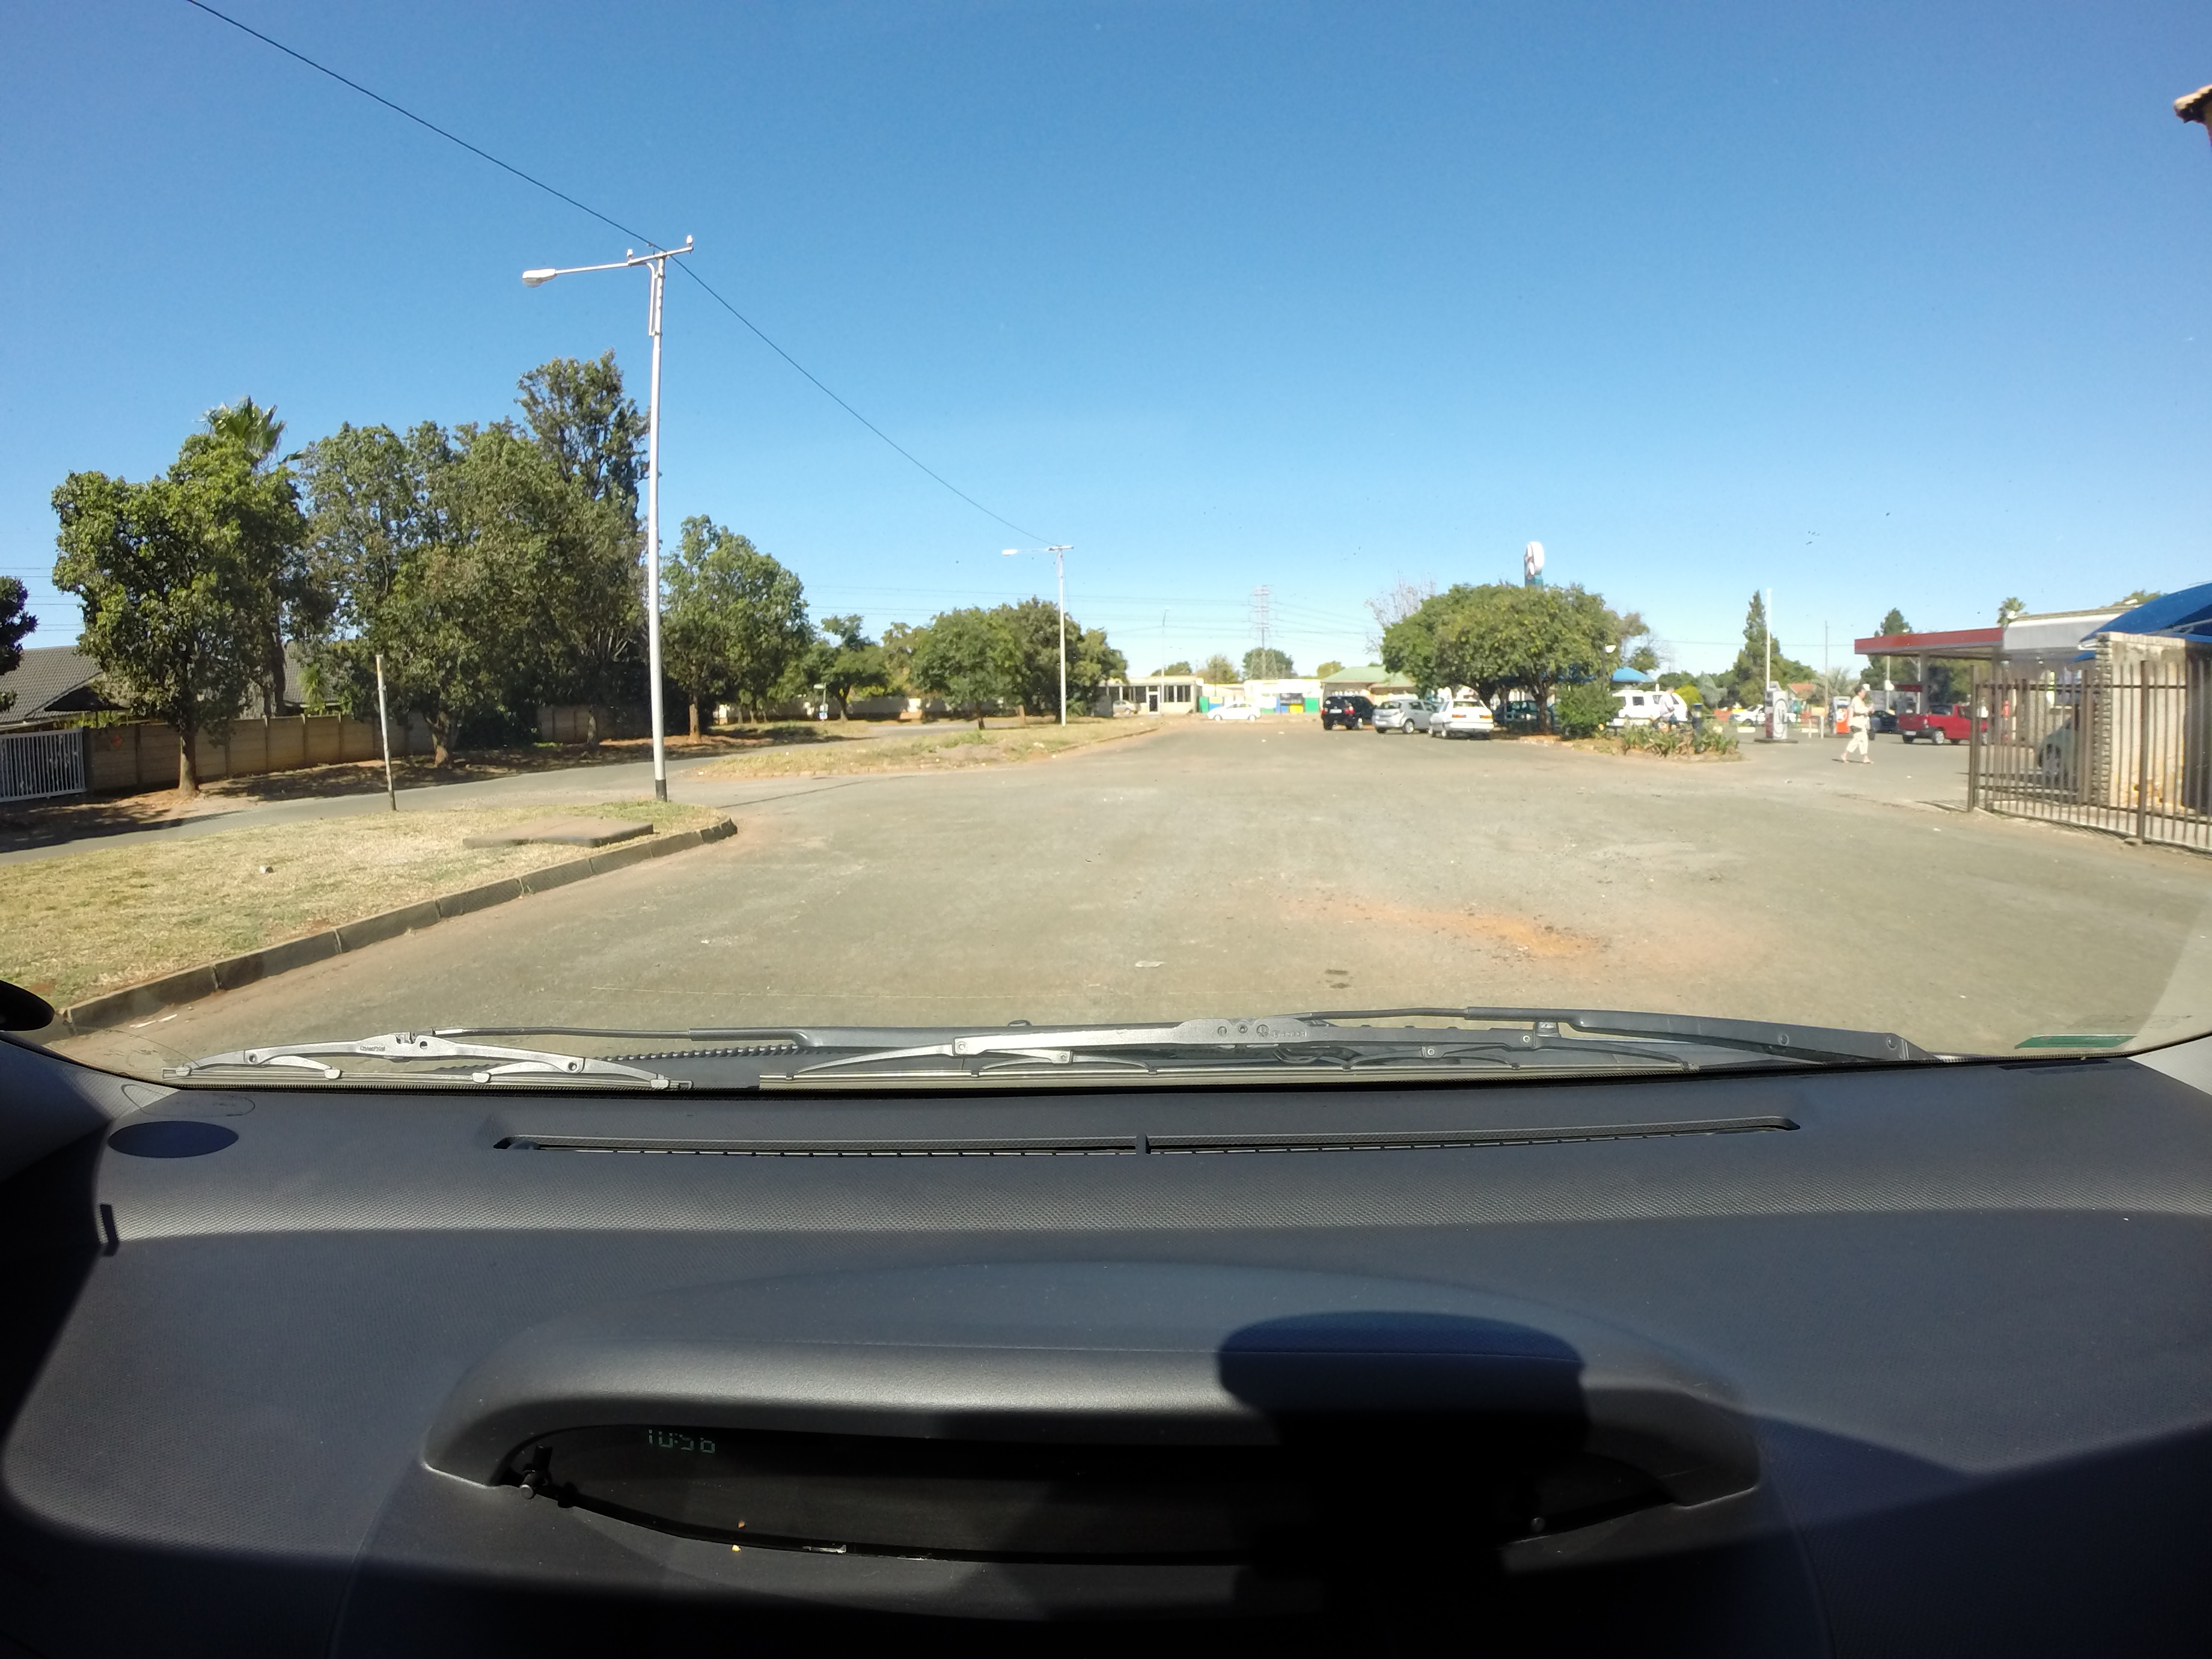pothole: (1500, 918, 1602, 965)
